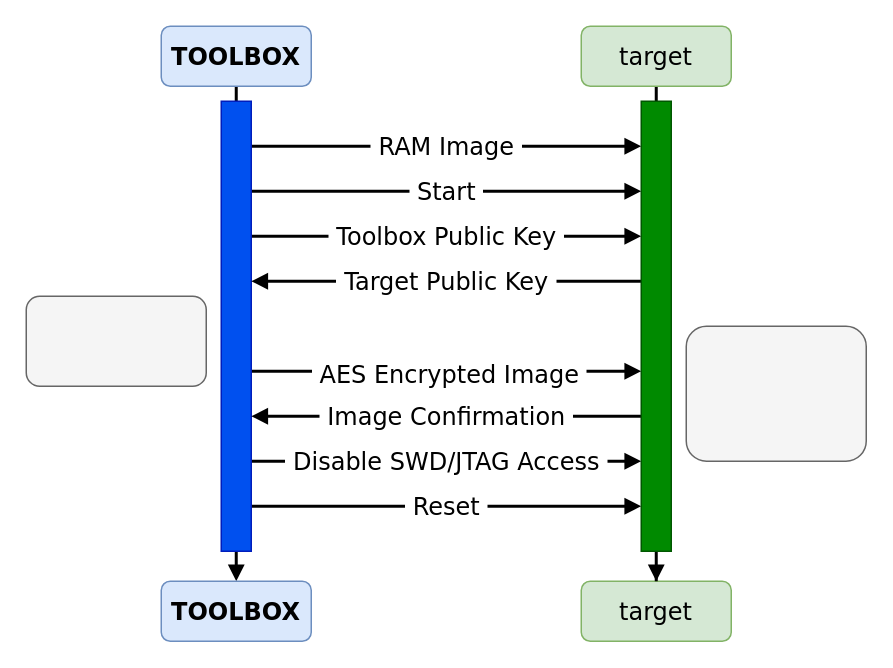
Some shapes in this 893 by 668 pixel diagram are drawn without their labels. Here are the shapes that lost their labels. From the top down, the box of each, then its label:
(25, 295, 206, 386): Calculate Shared Secret Encrypt Image
(685, 325, 866, 461): Calculate Shared Secret Decrypt Image Write to Flash
